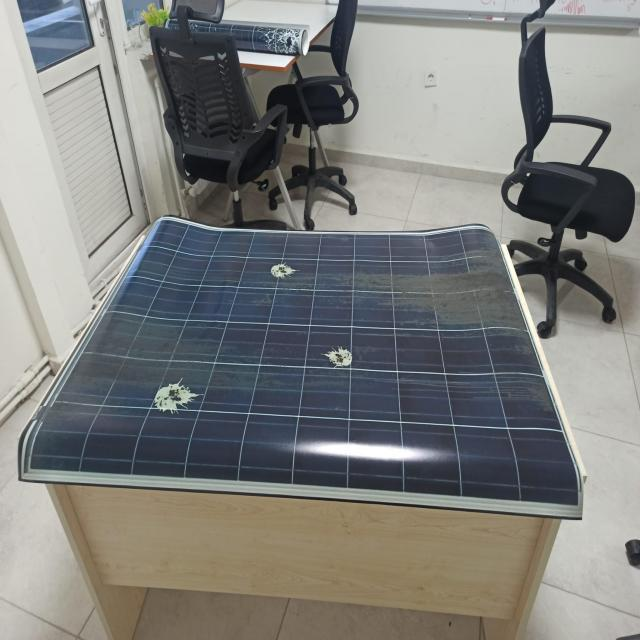faulty: (22, 217, 586, 522)
